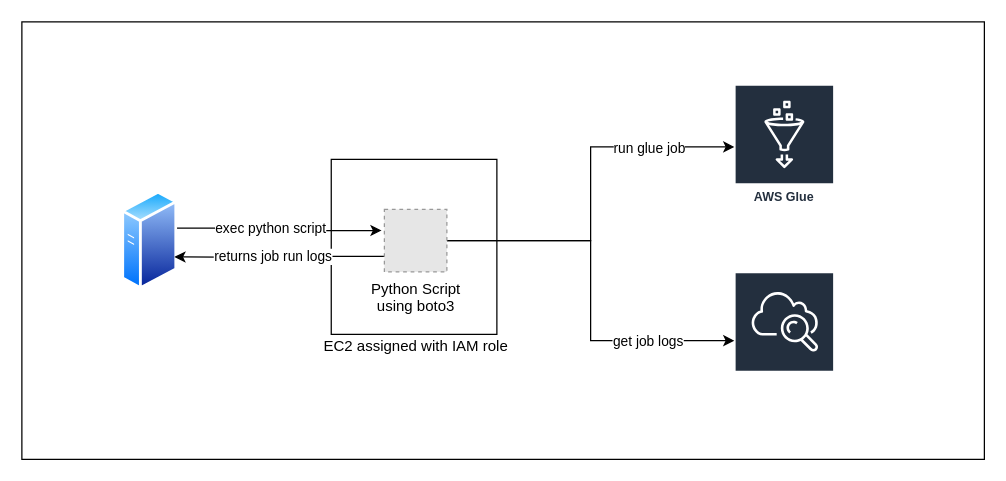
Some shapes in this 1006 by 481 pixel diagram are drawn without their labels. Grey dashed boxes stand in for pictures. Each missing label, with the box of its shape:
Amazon CloudWatch: (733, 271, 834, 409)
Control M: (121, 190, 177, 290)
